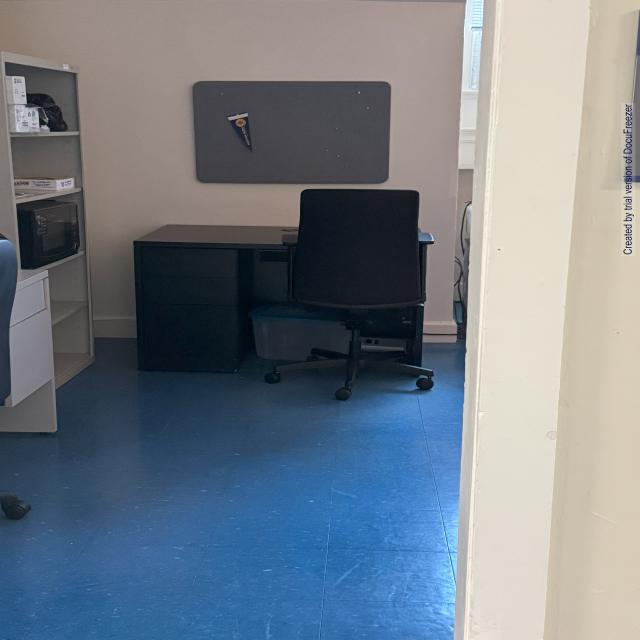Table: (102, 202, 447, 407)
chair: (296, 184, 444, 408)
